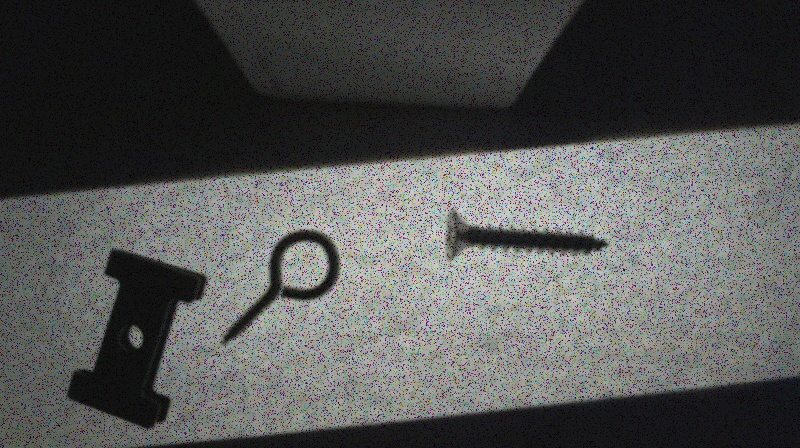O001: (216, 225, 345, 345)
O002: (65, 250, 207, 430)
S001: (440, 208, 611, 268)
